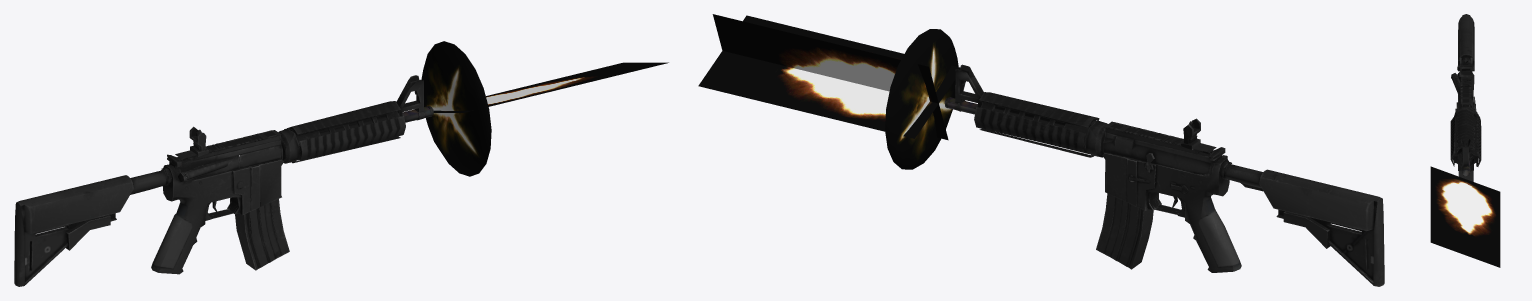
3 views of the same model, side by side, from view 1: azimuth 30°, elevation 25°; view 2: azimuth 150°, elevation 25°; view 3: azimuth 270°, elevation 25° (orthographic). The views are drawn at different scales.
Parts seen in each view (by area): view 1: M4_Decimated, MuzzleFlash; view 2: M4_Decimated, MuzzleFlash; view 3: MuzzleFlash, M4_Decimated.
Boxes of the visible parts, x1,y1,x2,y2 form: M4_Decimated: [14, 75, 433, 286]; MuzzleFlash: [421, 41, 668, 176]; M4_Decimated: [944, 64, 1384, 286]; MuzzleFlash: [698, 14, 960, 169]; MuzzleFlash: [1430, 166, 1500, 267]; M4_Decimated: [1450, 14, 1481, 181].
Size of the model in its own units: 1.31 by 0.3391 by 0.2486.
2 materials, 2 textured.
